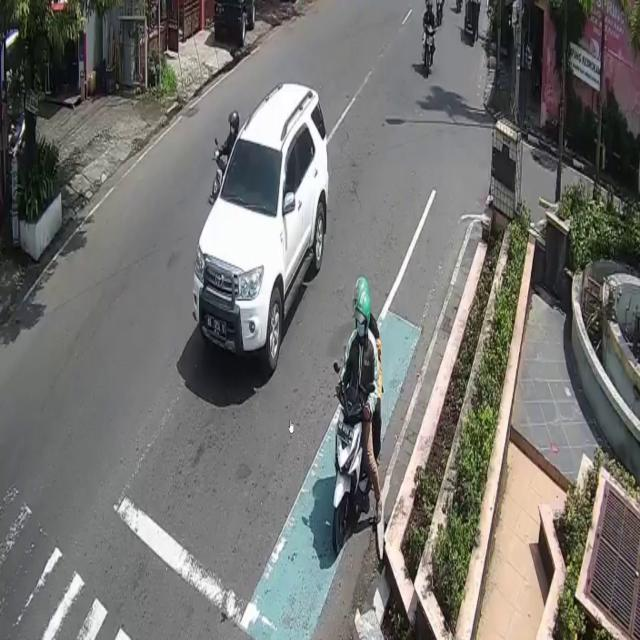car: (192, 80, 328, 374)
motorbike: (334, 386, 366, 552)
